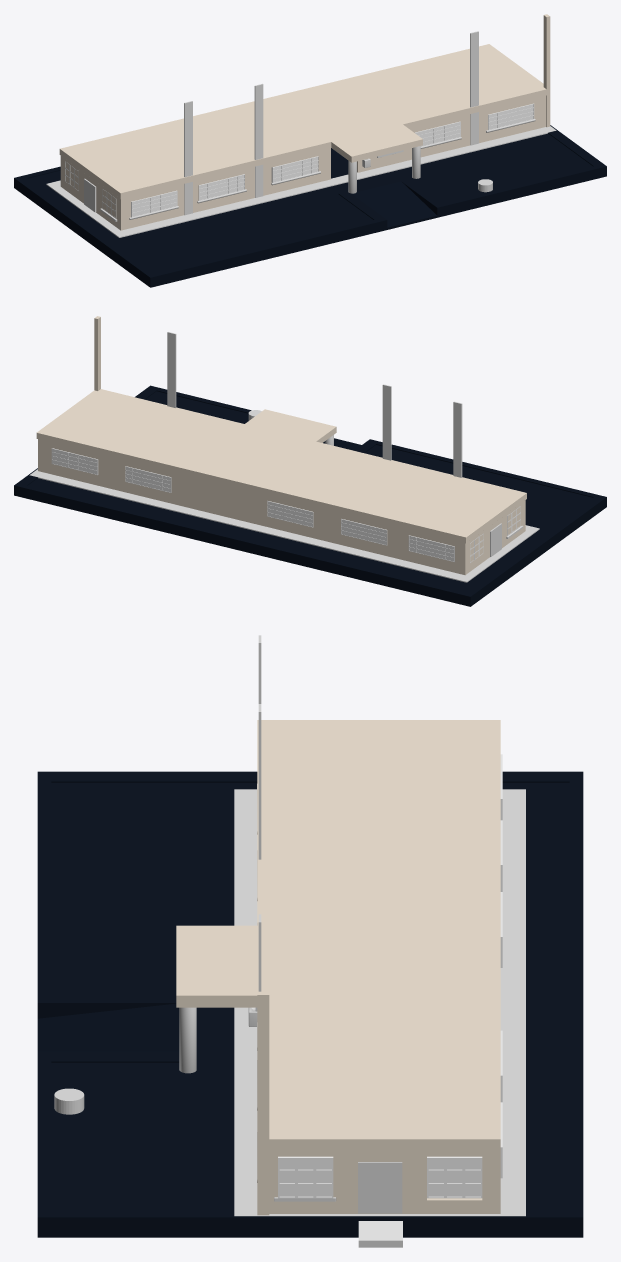
The model's file is admin.glb.
3 views of the same model, one above another, from view 1: azimuth 30°, elevation 25°; view 2: azimuth 150°, elevation 25°; view 3: azimuth 270°, elevation 25° (orthographic). The views are drawn at different scales.
Visible parts, largest first — view 1: Plane.001, Cube.002, Cube.007, Plane, Cube.008, Cube.006, Cube.001, Cube.014, Cylinder, Cube.005; view 2: Cube.002, Plane.001, Cube.007, Plane, Cube.008, Cube.006, Cube.001; view 3: Plane.001, Cube.002, Plane, Cube.007, compLabWindow, Cube.001, compLabDoor, ramp, Cube.006, Cylinder, Cube.008.
Part boxes in pixels (x1,y1,x2,y2): Plane.001: [14, 125, 606, 287]; Cube.002: [59, 44, 546, 199]; Cube.007: [60, 95, 545, 230]; Plane: [46, 126, 556, 237]; Cube.008: [131, 103, 534, 217]; Cube.006: [184, 31, 478, 215]; Cube.001: [543, 14, 550, 127]; Cube.014: [129, 119, 535, 219]; Cylinder: [348, 146, 420, 193]; Cube.005: [357, 150, 403, 172]; Cube.002: [36, 389, 526, 543]; Plane.001: [14, 385, 606, 606]; Cube.007: [38, 439, 525, 575]; Plane: [29, 469, 539, 582]; Cube.008: [51, 448, 454, 562]; Cube.006: [167, 332, 462, 477]; Cube.001: [94, 316, 100, 390]; Plane.001: [37, 771, 583, 1237]; Cube.002: [176, 720, 500, 1151]; Plane: [234, 789, 525, 1216]; Cube.007: [269, 1151, 500, 1213]; compLabWindow: [278, 1156, 482, 1198]; Cube.001: [257, 991, 269, 1215]; compLabDoor: [358, 1162, 402, 1213]; ramp: [358, 1221, 402, 1247]; Cube.006: [258, 635, 261, 991]; Cylinder: [179, 1007, 196, 1073]; Cube.008: [500, 754, 502, 1178].
Bounding box in the file's own units: 48.73 × 12.14 × 24.58.
